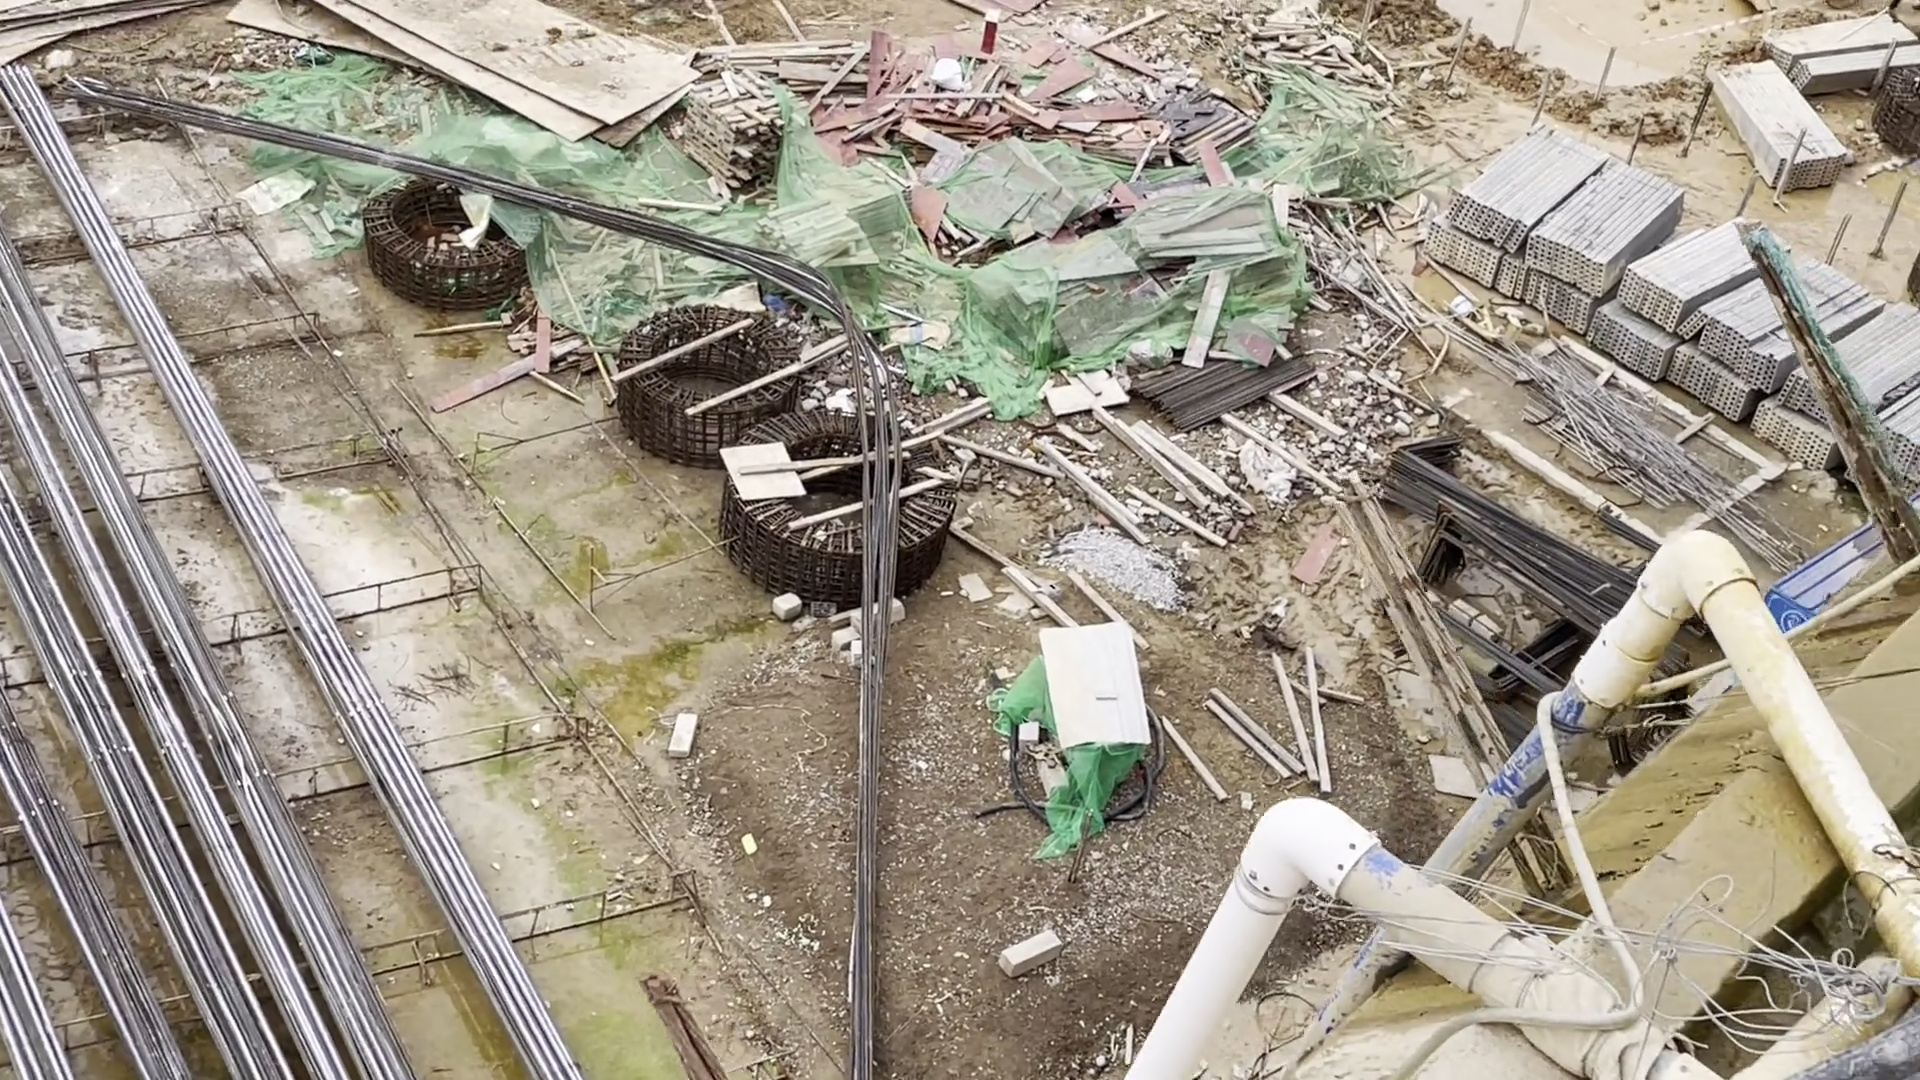board: (851, 61, 1162, 157)
rebar: (1, 26, 429, 1080)
scaffold: (1462, 145, 1920, 450), (1724, 24, 1887, 204)
